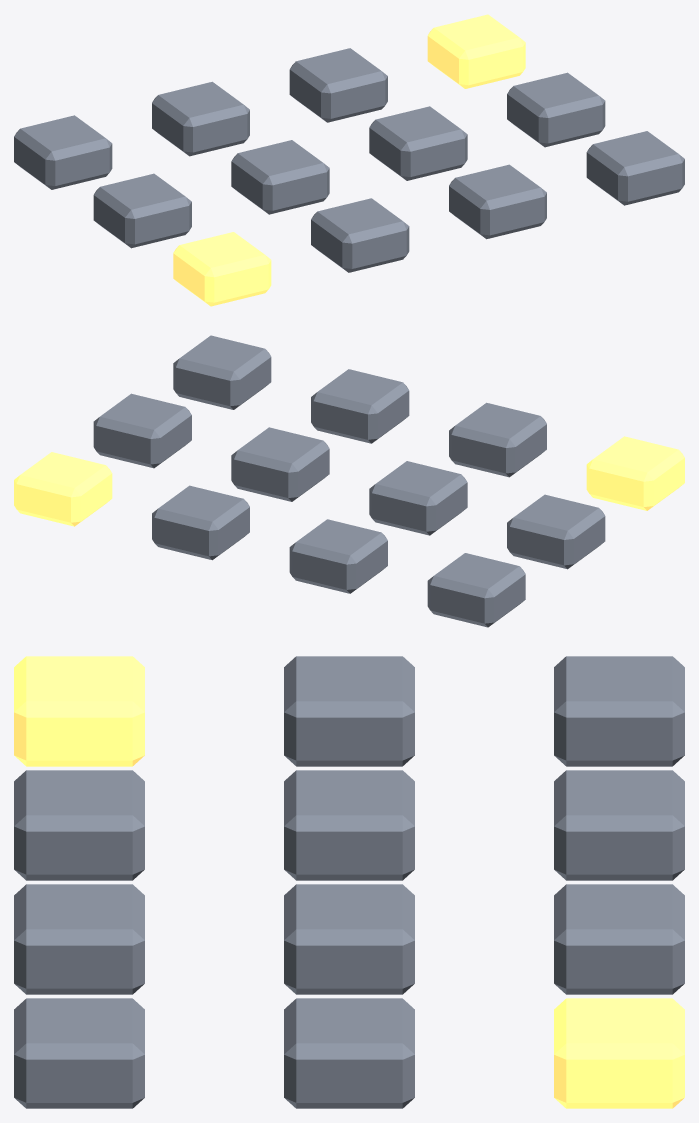
File: cracked_wall_small.glb
3 views of the same model, one above another, from view 1: azimuth 30°, elevation 25°; view 2: azimuth 150°, elevation 25°; view 3: azimuth 270°, elevation 25° (orthographic). The views are drawn at different scales.
Visible parts, largest first — view 1: cracked_wall_small; view 2: cracked_wall_small; view 3: cracked_wall_small.
Part boxes in pixels (x1,y1,x2,y2): cracked_wall_small: (14,14,684,306); cracked_wall_small: (14,335,684,627); cracked_wall_small: (14,656,684,1108).
Size of the model in its own units: 2.3 by 0.176 by 1.64.
